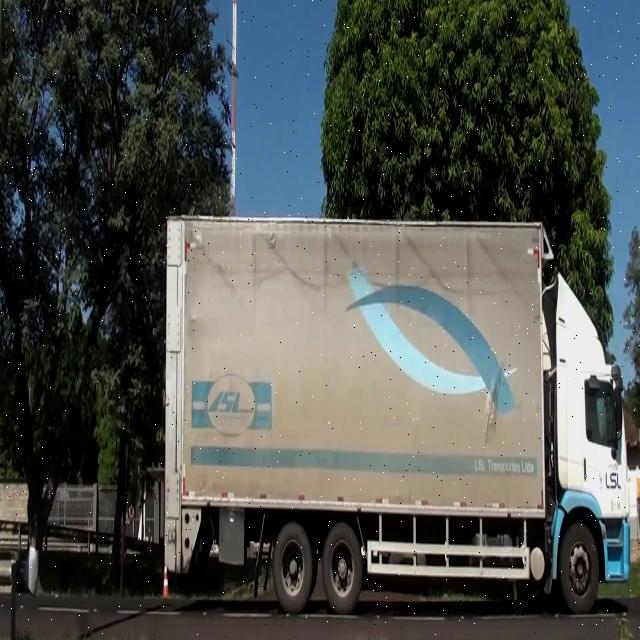-axle: (559, 521, 600, 614), (323, 524, 363, 613), (274, 523, 312, 612)
